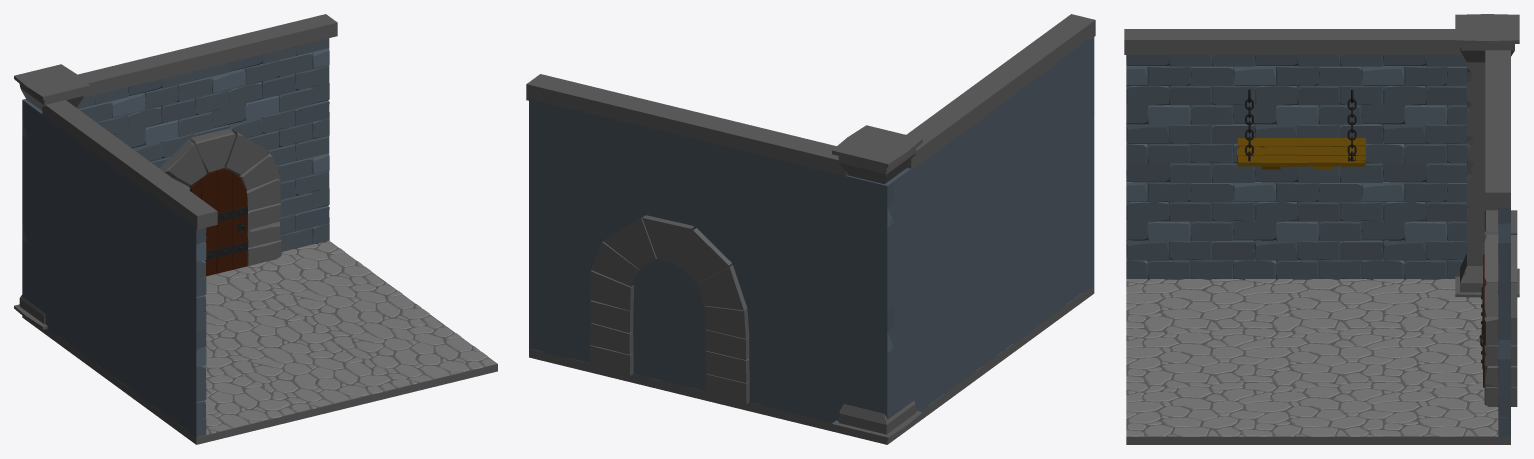
3 views of the same model, side by side, from view 1: azimuth 30°, elevation 25°; view 2: azimuth 150°, elevation 25°; view 3: azimuth 270°, elevation 25° (orthographic). The views are drawn at different scales.
Parts seen in each view (by area): view 1: Tile_wall0.011, Tile_wall0.007, Tile_wall0.008, Tile_wall0.009, Rock_arch, Tile_floor0.008, Tile_floor0.007, Decoracion.001, Tile_wall0, Tile_wall0.002, Tile_wall0.003, Tile_floor0.004 (+11 smaller); view 2: Tile_wall0.006, Rock_arch, Tile_wall0.004, Tile_wall0.011, Tile_wall0.007, Tile_wall0.010, Tile_wall0.005, Tile_wall0.003, Decoracion.001, Tile_wall0.008, Tile_wall0, Tile_wall0.009 (+9 smaller); view 3: Tile_wall0.008, Tile_wall0, Tile_wall0.009, Tile_wall0.002, Tile_wall0.001, Tile_wall0.003, Decoracion, Tile_floor0.008, Tile_floor0.004, Column, Tile_floor0.005, Tile_floor0.002 (+12 smaller).
Boxes of the visible parts, x1,y1,x2,y2 form: Tile_wall0.011: [228, 38, 329, 150]; Tile_wall0.007: [128, 62, 229, 168]; Tile_wall0.008: [138, 290, 206, 437]; Tile_wall0.009: [138, 185, 206, 332]; Rock_arch: [159, 128, 281, 265]; Tile_floor0.008: [340, 321, 497, 395]; Tile_floor0.007: [239, 346, 397, 420]; Decoracion.001: [78, 14, 337, 97]; Tile_wall0: [80, 247, 138, 394]; Tile_wall0.002: [80, 142, 138, 289]; Tile_wall0.003: [22, 99, 80, 246]; Tile_floor0.004: [282, 279, 439, 345]; Tile_wall0.006: [768, 157, 894, 310]; Rock_arch: [589, 215, 749, 404]; Tile_wall0.004: [768, 282, 894, 422]; Tile_wall0.011: [529, 98, 648, 241]; Tile_wall0.007: [648, 128, 767, 281]; Tile_wall0.010: [529, 224, 648, 377]; Tile_wall0.005: [648, 259, 767, 406]; Tile_wall0.003: [875, 138, 956, 305]; Decoracion.001: [526, 74, 847, 177]; Tile_wall0.008: [1025, 160, 1094, 334]; Tile_wall0: [956, 210, 1025, 385]; Tile_wall0.009: [1025, 37, 1094, 209]; Tile_wall0.008: [1126, 163, 1254, 279]; Tile_wall0: [1254, 163, 1382, 279]; Tile_wall0.009: [1126, 55, 1254, 163]; Tile_wall0.002: [1254, 55, 1382, 163]; Tile_wall0.001: [1383, 163, 1466, 279]; Tile_wall0.003: [1383, 55, 1466, 163]; Decoracion: [1124, 29, 1462, 54]; Tile_floor0.008: [1126, 382, 1254, 444]; Tile_floor0.004: [1254, 382, 1382, 444]; Column: [1455, 14, 1519, 297]; Tile_floor0.005: [1383, 382, 1510, 444]; Tile_floor0.002: [1254, 328, 1382, 382].
Bounding box in the file's own units: 616 × 456 × 616.
